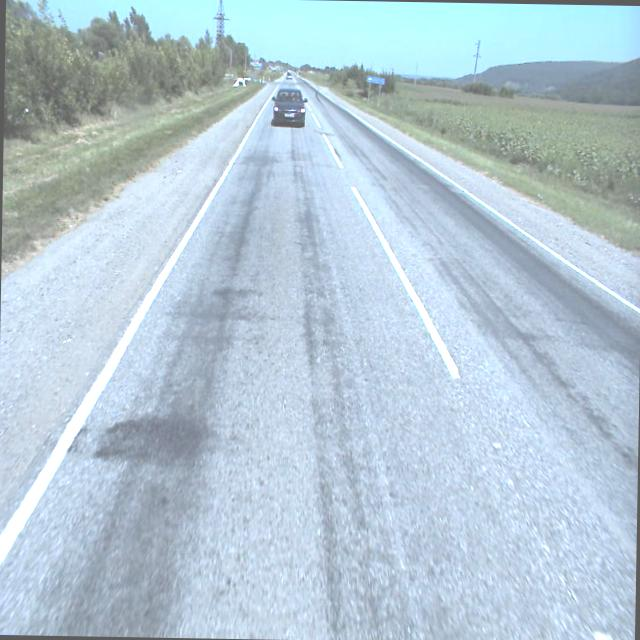road: (0, 75, 640, 640)
